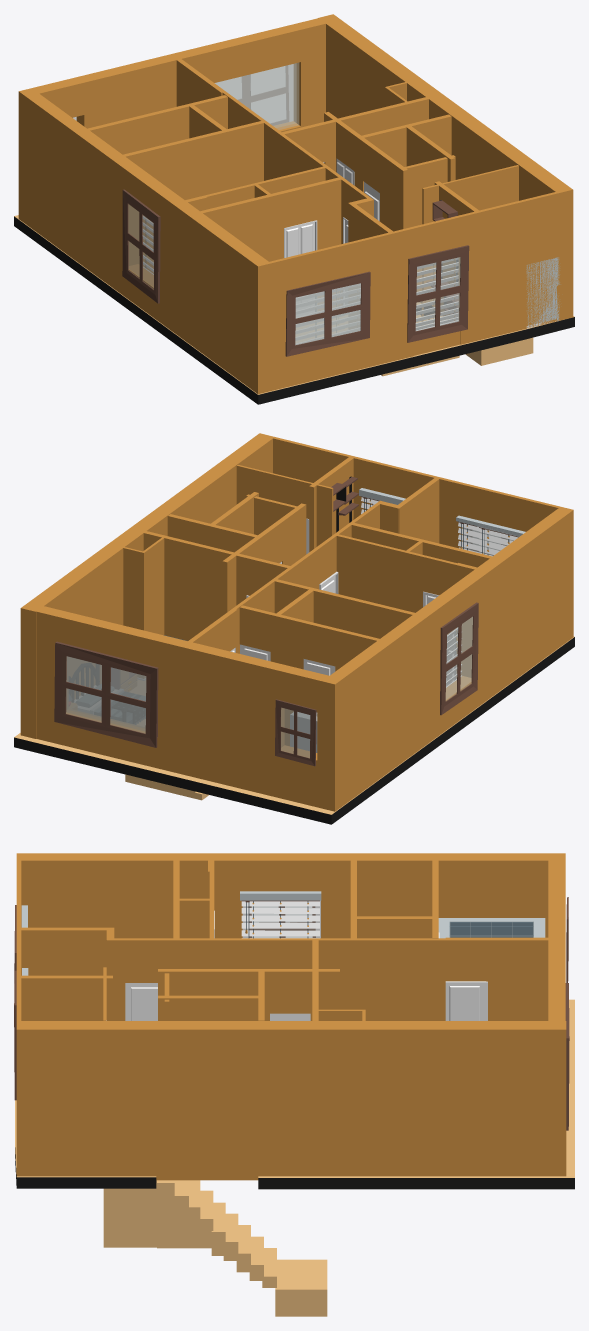
Rendered from lux-1.glb.
3 renders of one model, top to bottom at view 1: azimuth 30°, elevation 25°; view 2: azimuth 150°, elevation 25°; view 3: azimuth 270°, elevation 25°, orthographic. The views are drawn at different scales.
Visible parts, largest first — view 1: group379263024, group238259905, group1421664206, group866321240, group2070335785; view 2: group379263024, group238259905, group2070335785, group700922639; view 3: group379263024, group1421664206, group723800643, group700922639, group1084362784, group1185643238, group538909172, group1421465591.
Boxes of the visible parts, <box> form: group379263024: <box>14,14,574,404</box>; group238259905: <box>476,165,518,210</box>; group1421664206: <box>465,337,533,365</box>; group866321240: <box>414,331,460,355</box>; group2070335785: <box>446,175,476,208</box>; group379263024: <box>14,433,574,824</box>; group238259905: <box>236,465,279,504</box>; group2070335785: <box>278,475,309,518</box>; group700922639: <box>215,608,237,651</box>; group379263024: <box>14,853,574,1272</box>; group1421664206: <box>103,1180,156,1247</box>; group723800643: <box>275,1259,327,1316</box>; group700922639: <box>445,937,486,981</box>; group1084362784: <box>157,1180,174,1248</box>; group1185643238: <box>449,986,479,1020</box>; group538909172: <box>131,987,157,1020</box>; group1421465591: <box>249,1236,263,1280</box>.
Size of the model in its own units: 7.03 by 5.25 by 9.3.
